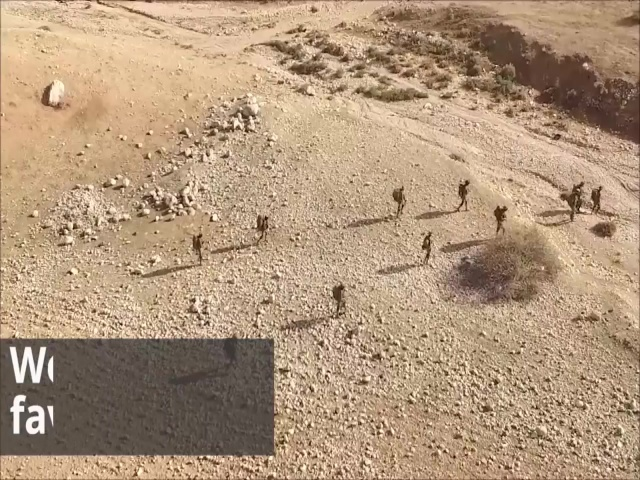person: (563, 188, 581, 223), (252, 213, 270, 247), (330, 281, 347, 316), (189, 232, 206, 265), (493, 204, 507, 237), (457, 179, 470, 213), (393, 186, 407, 217), (590, 185, 604, 214), (420, 231, 432, 263), (572, 180, 585, 204)
